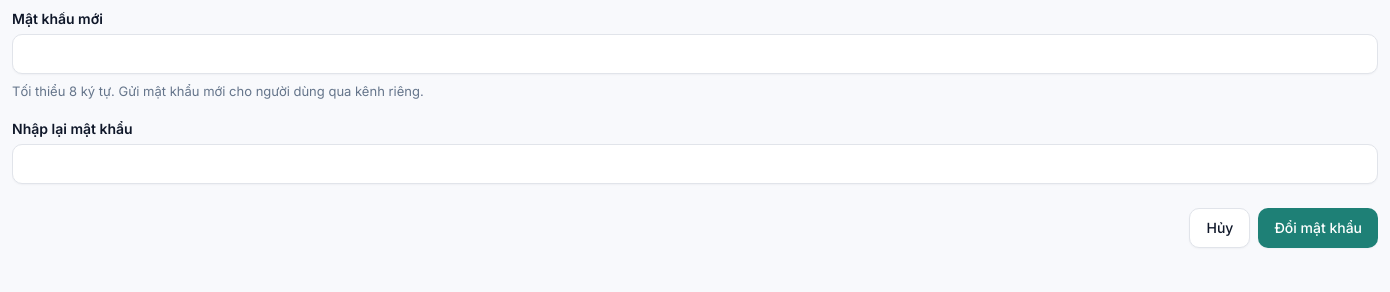
it: ChangePasswordForm › rejects when confirm password does not match
Type "new-secret-password" into the password field labelled "Mật khẩu mới" at (695, 54), box [12,34,1378,74]
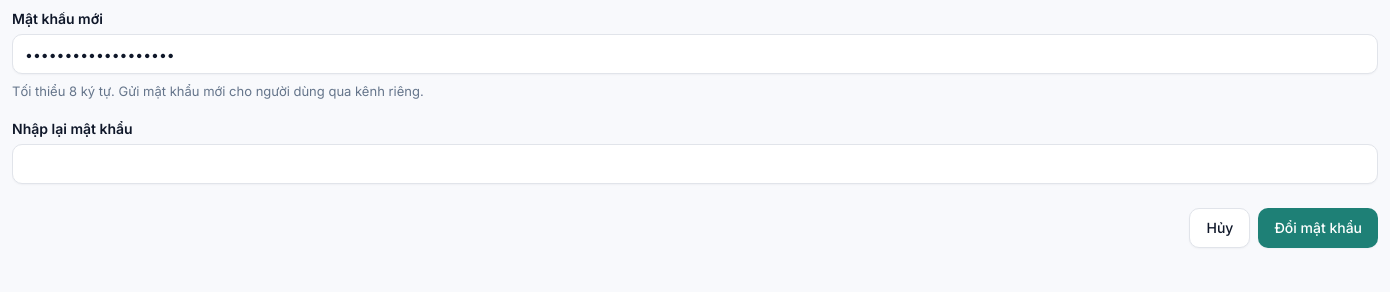
Type "different-password" into the password field labelled "Nhập lại mật khẩu" at (695, 164), box [12,144,1378,184]
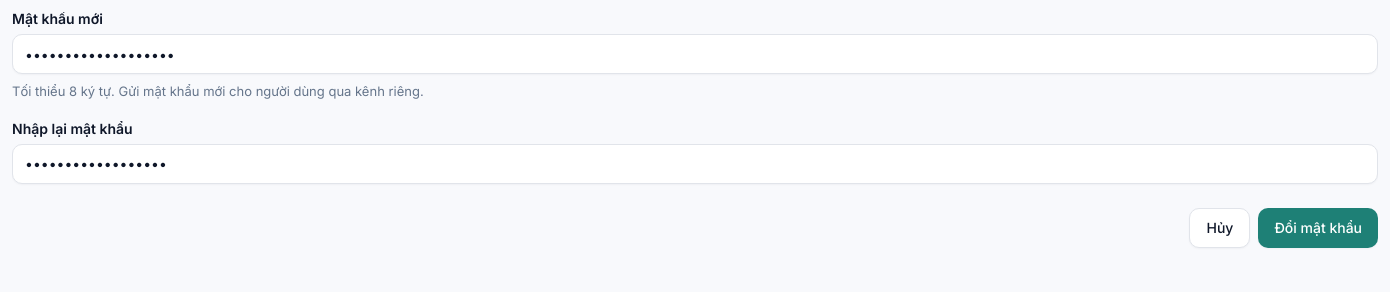
Click the button "Đổi mật khẩu" at (1318, 228), box [1258,208,1378,248]
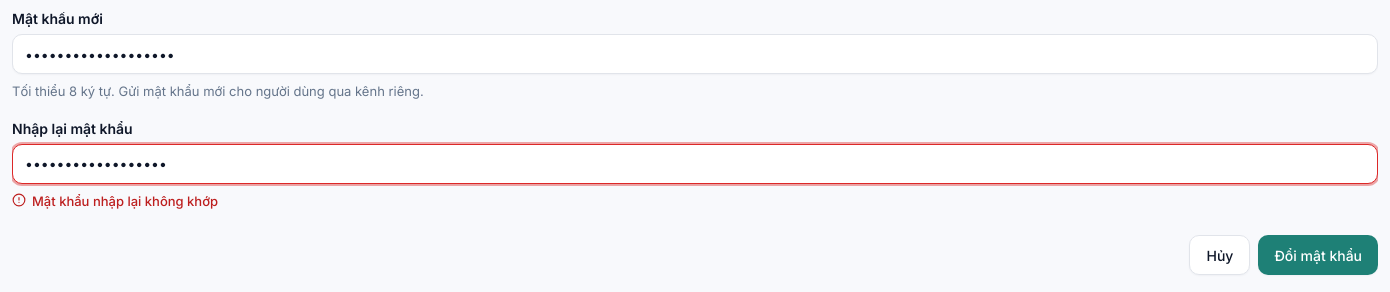
Now the text "Mật khẩu nhập lại không khớp" is shown, box [12,192,218,208]
